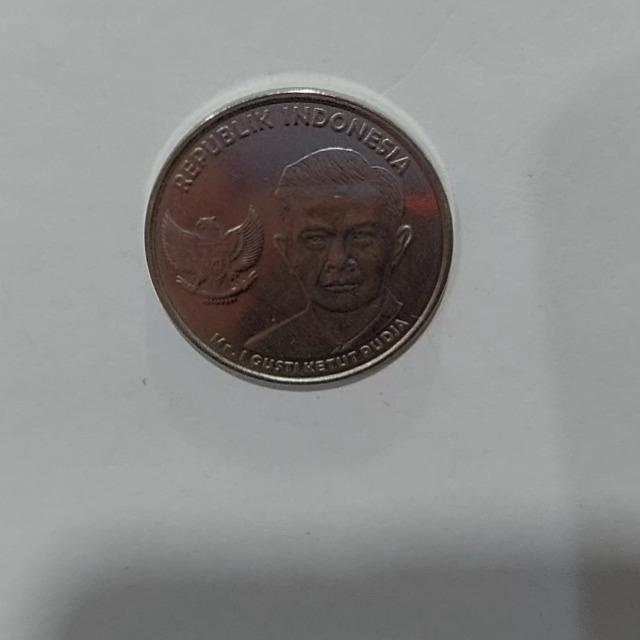Rp100: (143, 83, 455, 389), (224, 143, 417, 365)
